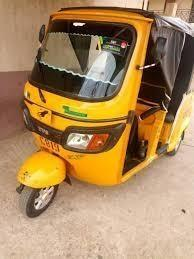keke: (16, 2, 194, 228)
